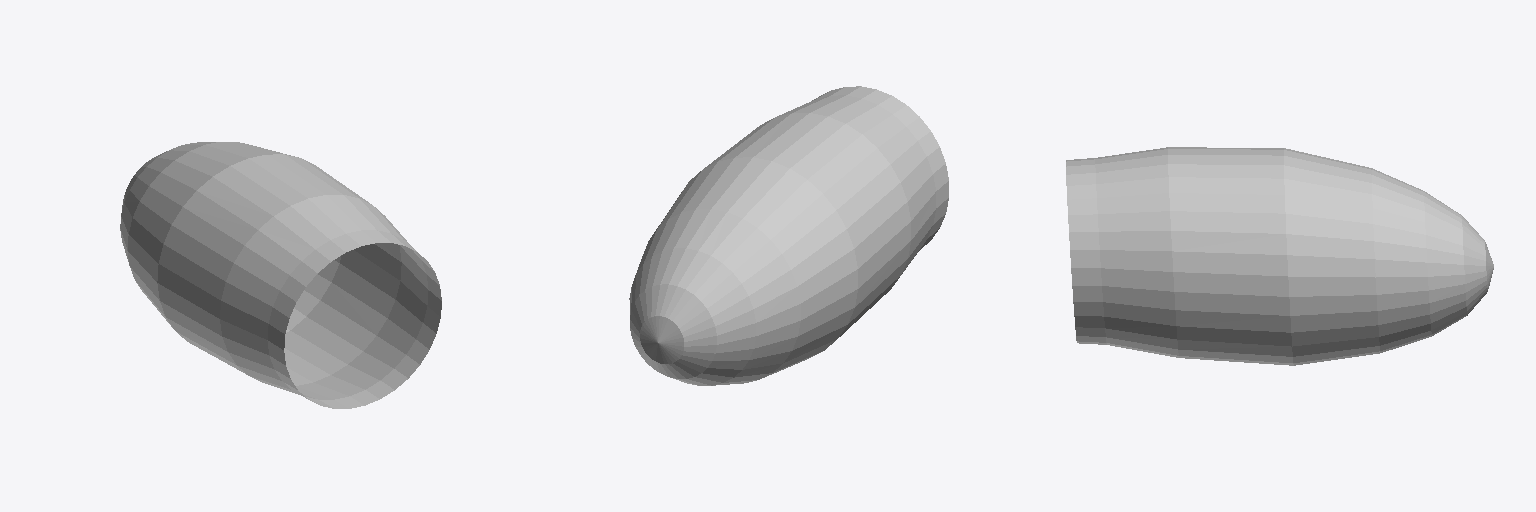
Rendered from fireball_mesh.obj.
3 views of the same model, side by side, from view 1: azimuth 30°, elevation 25°; view 2: azimuth 150°, elevation 25°; view 3: azimuth 270°, elevation 25° (orthographic).
Parts seen in each view (by area): view 1: Sphere; view 2: Sphere; view 3: Sphere.
Boxes of the visible parts, x1=… form: Sphere: x1=120, y1=142, x2=441, y2=408; Sphere: x1=629, y1=86, x2=948, y2=385; Sphere: x1=1066, y1=147, x2=1493, y2=365.
Bounding box in the file's own units: 1.66 × 1.67 × 3.26.